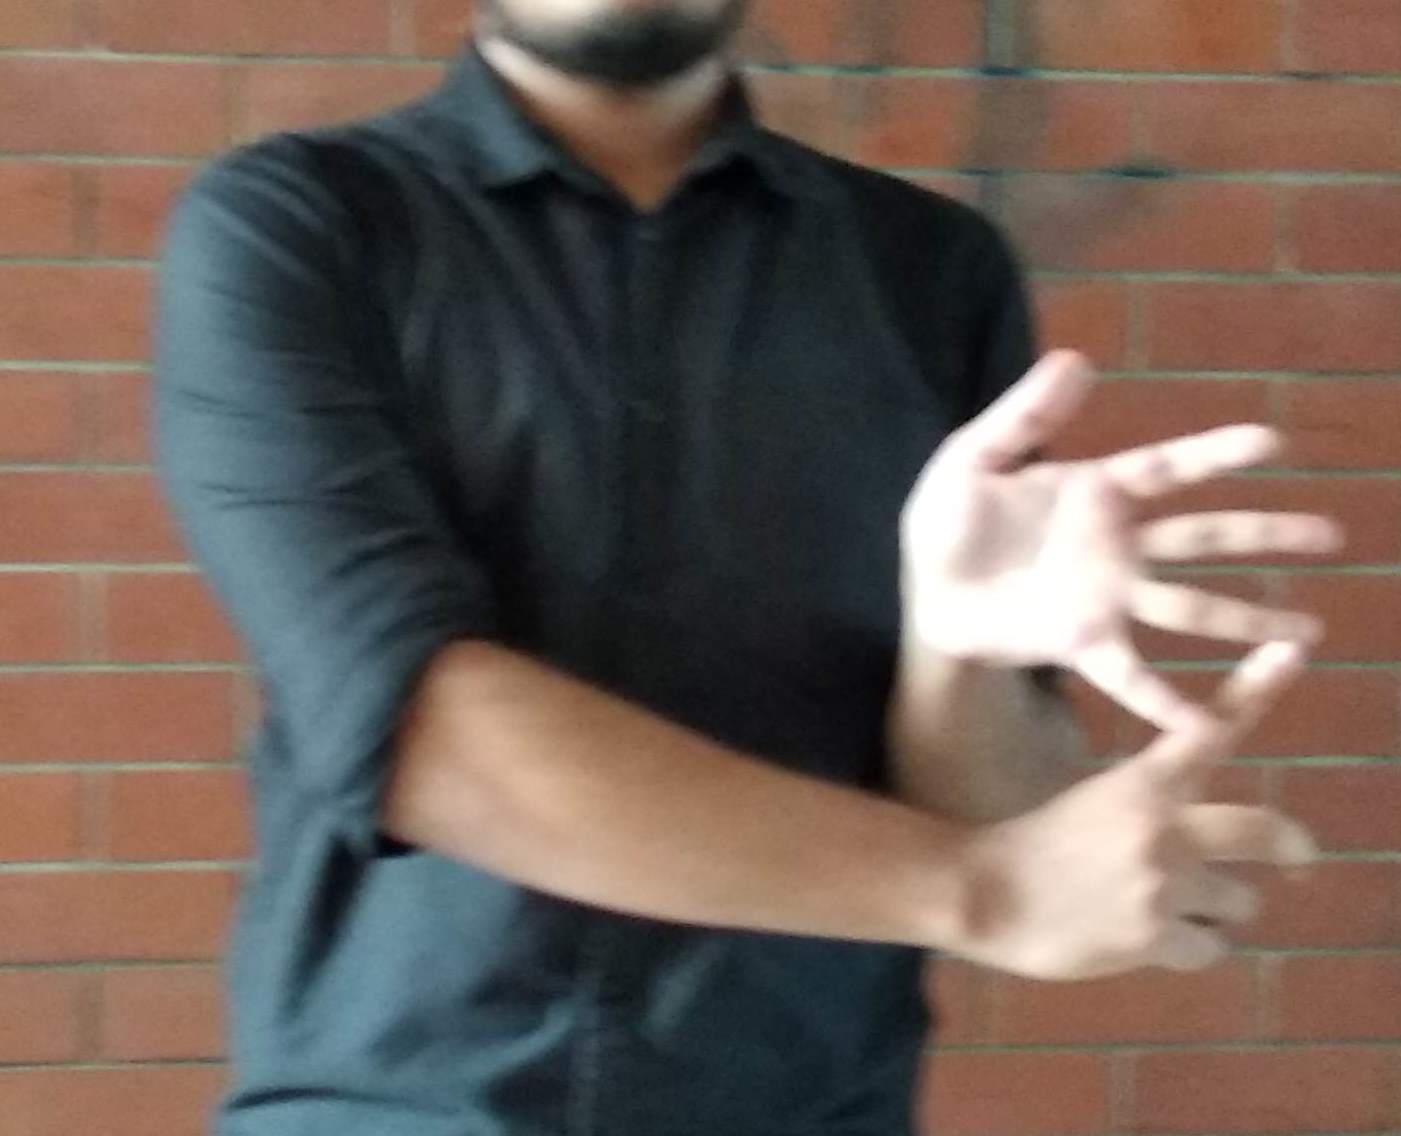e: (782, 380, 1306, 980)
